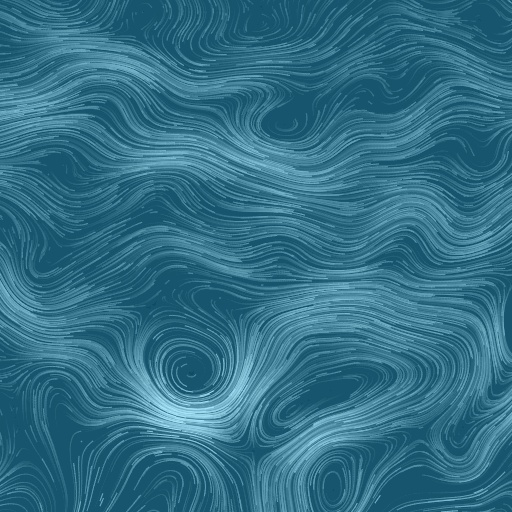eddy: (139, 318, 244, 417), (267, 360, 393, 437), (313, 456, 355, 512)
